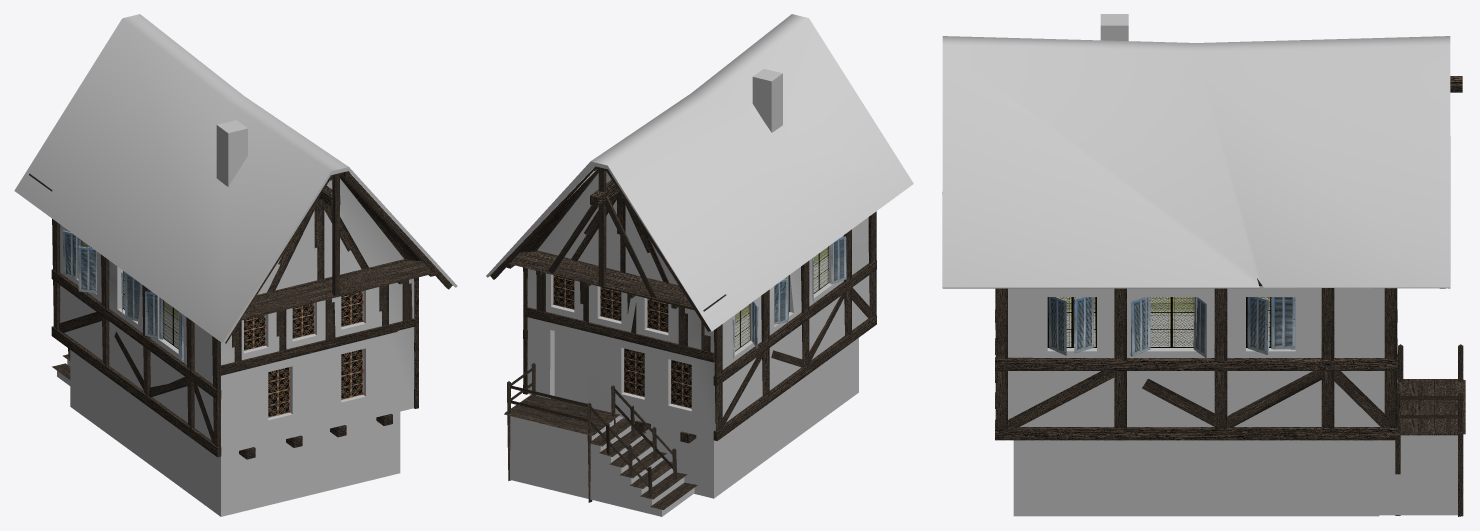
File: house1_LOD1.fbx
3 renders of one model, left to right at view 1: azimuth 30°, elevation 25°; view 2: azimuth 150°, elevation 25°; view 3: azimuth 270°, elevation 25°, orthographic. The views are drawn at different scales.
Parts seen in each view (by area): view 1: Mesh Object; view 2: Mesh Object; view 3: Mesh Object.
Boxes of the visible parts, box(x1,y1,x2,y2) form: Mesh Object: box(14, 14, 457, 516); Mesh Object: box(486, 14, 913, 516); Mesh Object: box(942, 14, 1465, 516).
Bounding box in the file's own units: 10.5 × 14.9 × 16.64.
